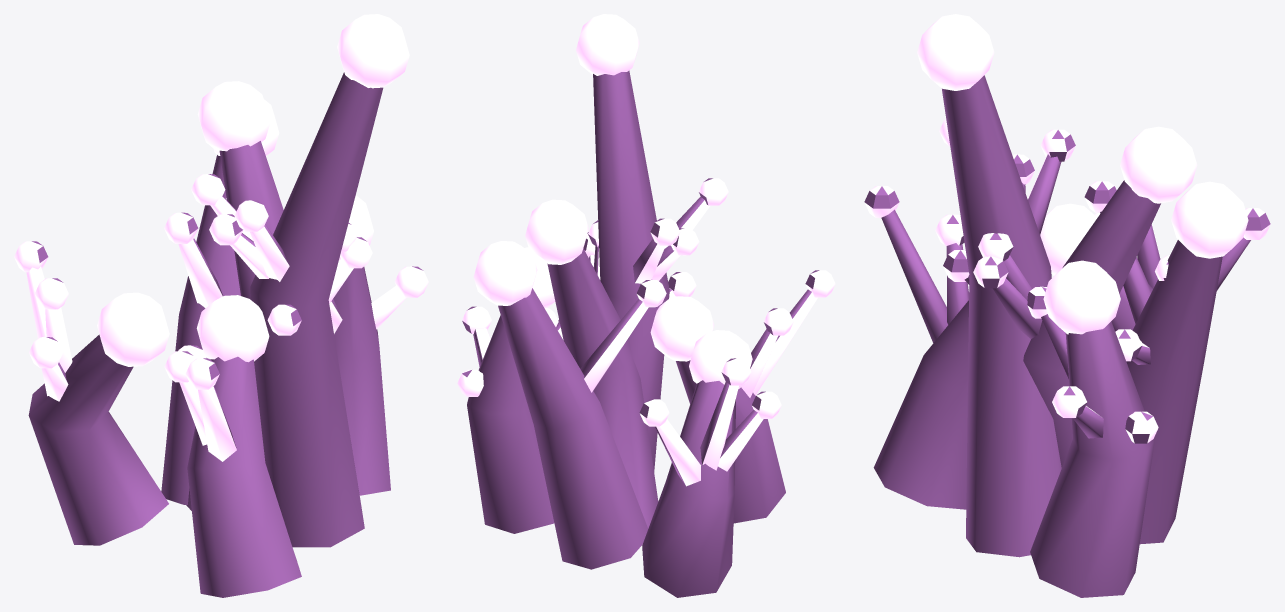
The model's file is coral_tower.glb.
3 views of the same model, side by side, from view 1: azimuth 30°, elevation 25°; view 2: azimuth 150°, elevation 25°; view 3: azimuth 270°, elevation 25° (orthographic). The views are drawn at different scales.
Visible parts, largest first — view 1: Coral_Tower; view 2: Coral_Tower; view 3: Coral_Tower.
Boxes of the visible parts, x1=… form: Coral_Tower: x1=14, y1=14, x2=428, y2=597; Coral_Tower: x1=457, y1=14, x2=835, y2=597; Coral_Tower: x1=864, y1=14, x2=1270, y2=597.
Bounding box in the file's own units: 4.01 × 5.54 × 3.67.
